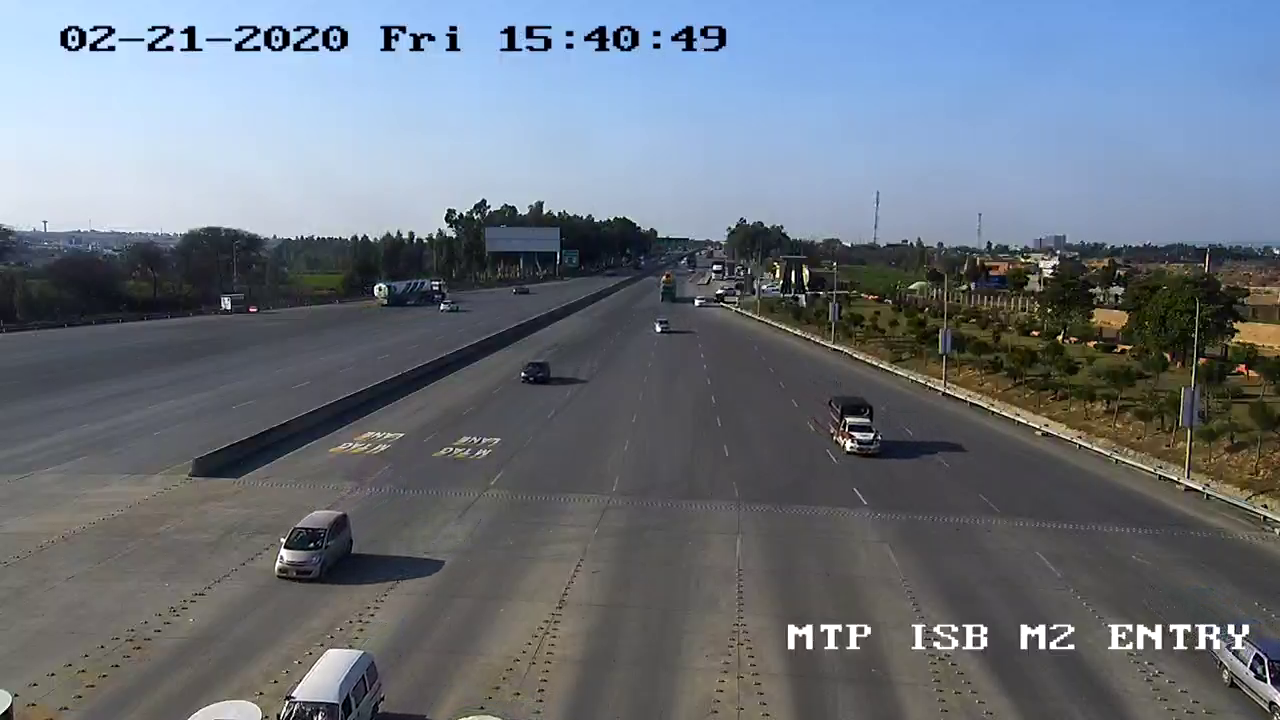f1: (267, 499, 366, 597), (819, 392, 891, 461), (511, 352, 559, 397)
